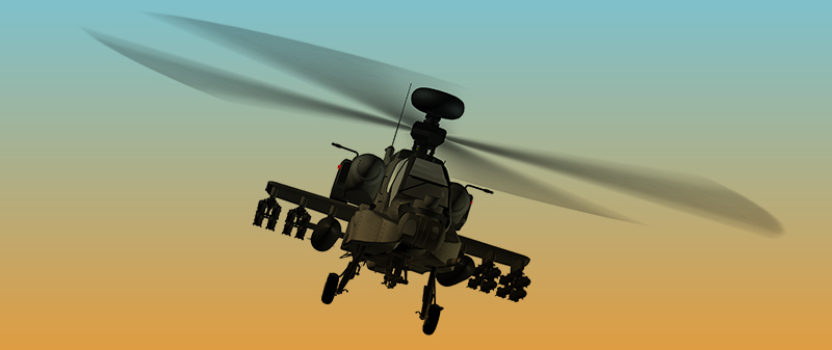MilitaryHelicopter: (259, 44, 551, 315)
